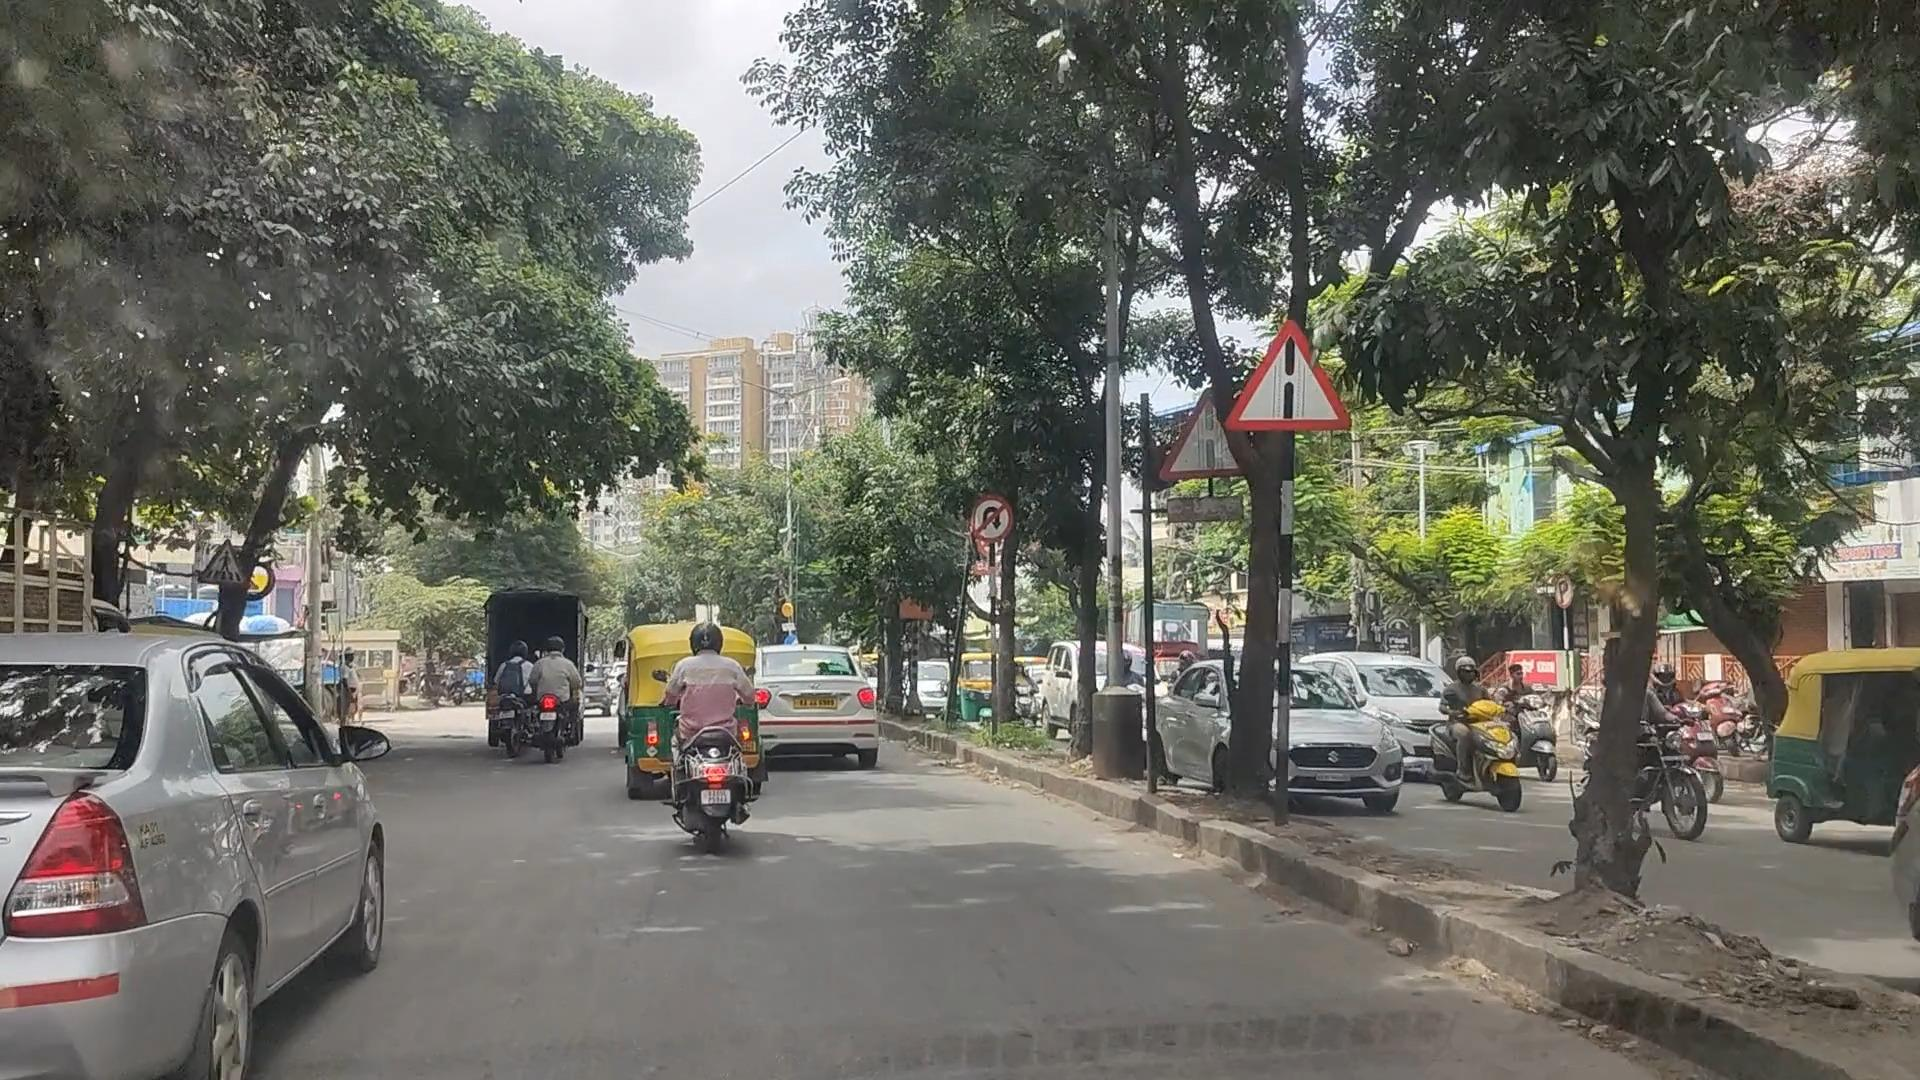LMV: (7, 626, 405, 1080), (642, 618, 758, 856), (758, 654, 868, 769)
